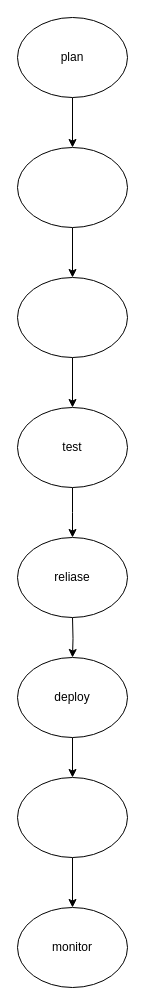
The diagram is 145 pixels wide and 1005 high, and some of its shapes have lost their labels. The shapes that lost their labels are listed below. From the top down, each one's centre as x and y in pixels, then its label:
At (x=72, y=187): "develop".
At (x=72, y=317): "build".
At (x=72, y=817): "operate".
